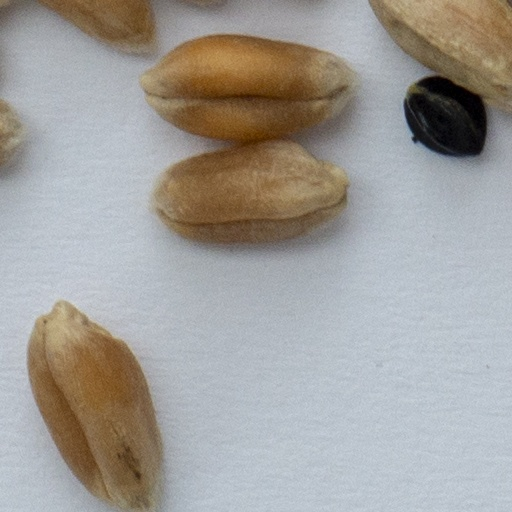Fallopia-Convolvulus-poly: (405, 77, 488, 154)
